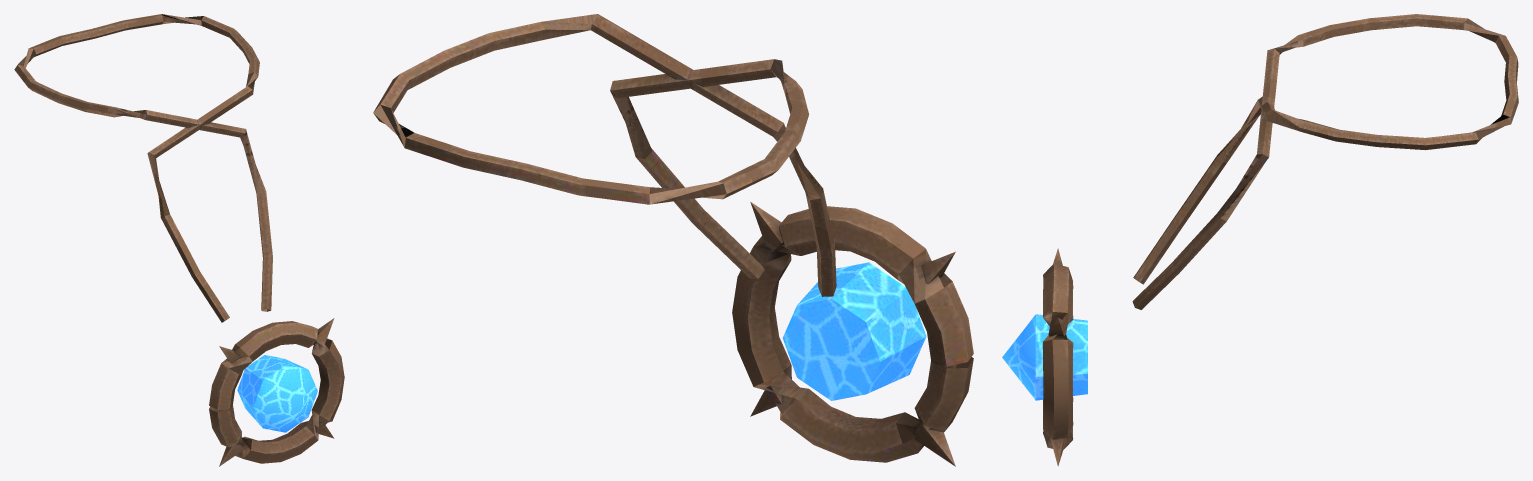
The model's file is Amuleto_de_Cristal_Arcano_nivel50.glb.
3 views of the same model, side by side, from view 1: azimuth 30°, elevation 25°; view 2: azimuth 150°, elevation 25°; view 3: azimuth 270°, elevation 25° (orthographic). The views are drawn at different scales.
Visible parts, largest first — view 1: amuleto_de_cristal_arcano_nivel50; view 2: amuleto_de_cristal_arcano_nivel50; view 3: amuleto_de_cristal_arcano_nivel50.
Boxes of the visible parts, <box> form: amuleto_de_cristal_arcano_nivel50: <box>14,14,344,466</box>; amuleto_de_cristal_arcano_nivel50: <box>373,14,973,466</box>; amuleto_de_cristal_arcano_nivel50: <box>1002,14,1518,466</box>.
Size of the model in its own units: 0.1584 by 0.2123 by 0.2695.
1 material, 1 textured.
